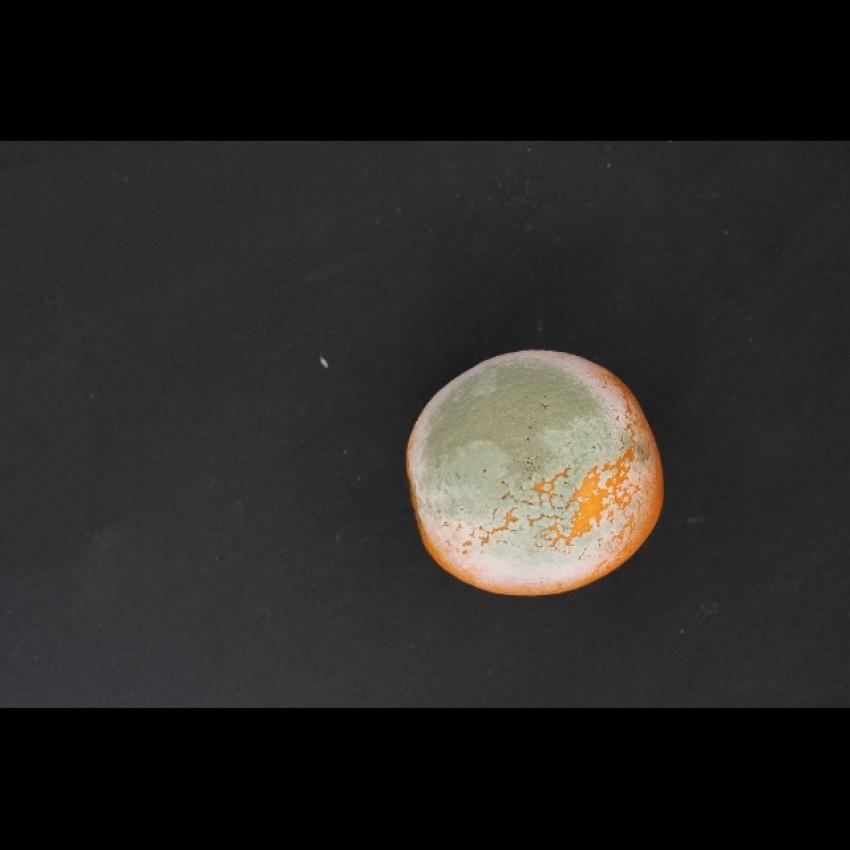Mal estado: (398, 336, 687, 607)
